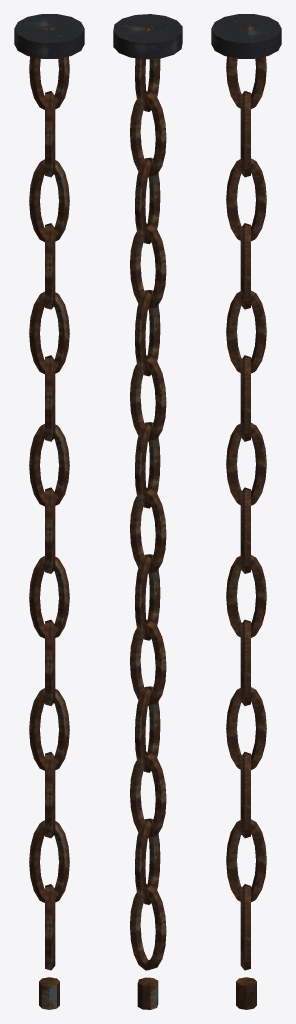
Rendered from chain_hanging.gltf.
The picture shows the model from 3 angles, left to right: view 1: azimuth 90°, elevation 25°; view 2: azimuth 150°, elevation 25°; view 3: azimuth 270°, elevation 25°; orthographic projection.
Parts seen in each view (by area): view 1: Body; view 2: Body; view 3: Body.
Part boxes in pixels (x1,y1,x2,y2): Body: (14, 14, 84, 1009); Body: (113, 14, 182, 1009); Body: (211, 14, 281, 1009).
Size of the model in its own units: 0.078 by 1.23 by 0.08.
Materials: 2 (2 with a texture image).
